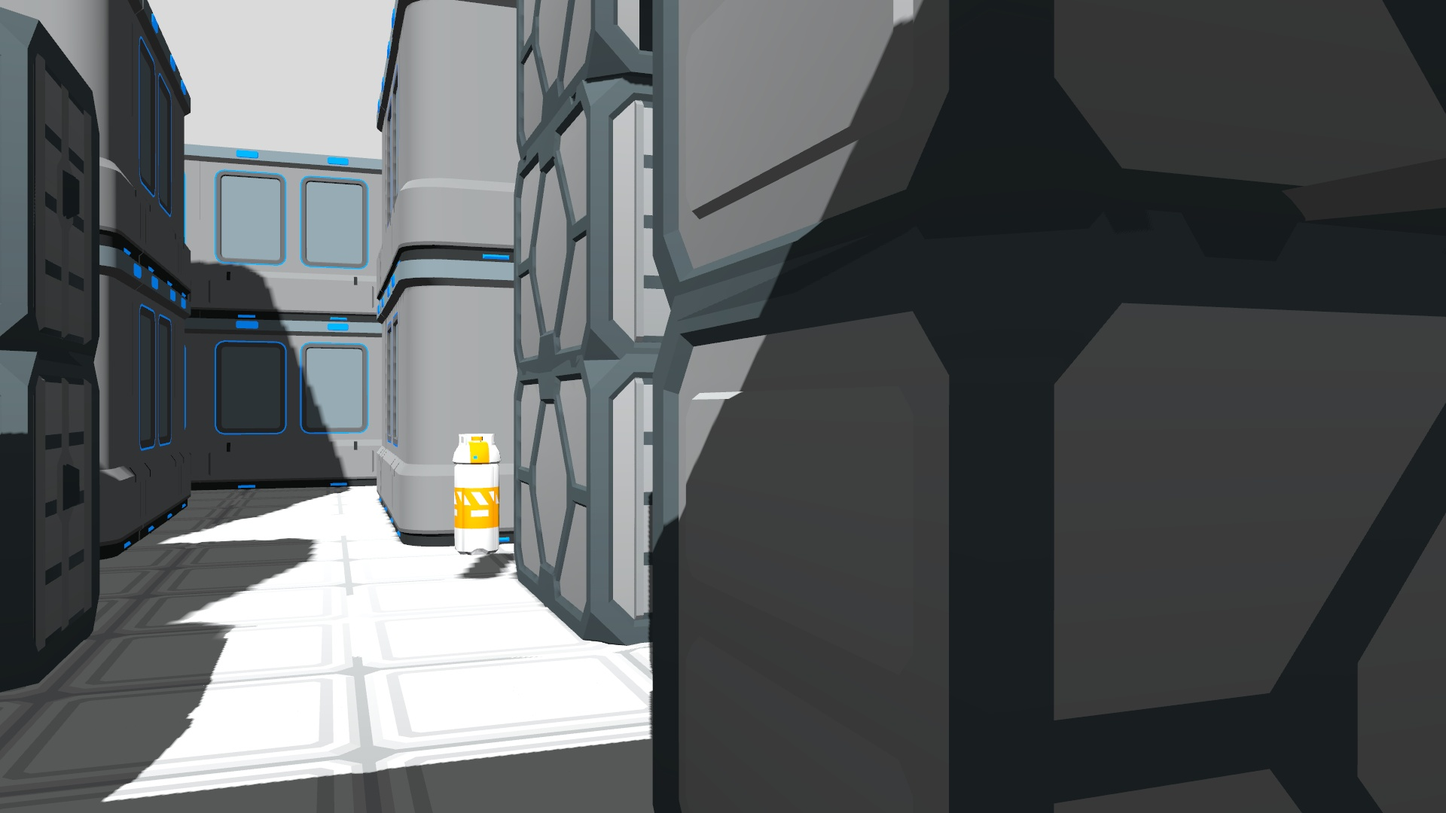yellow_barrel: (448, 428, 502, 556)
